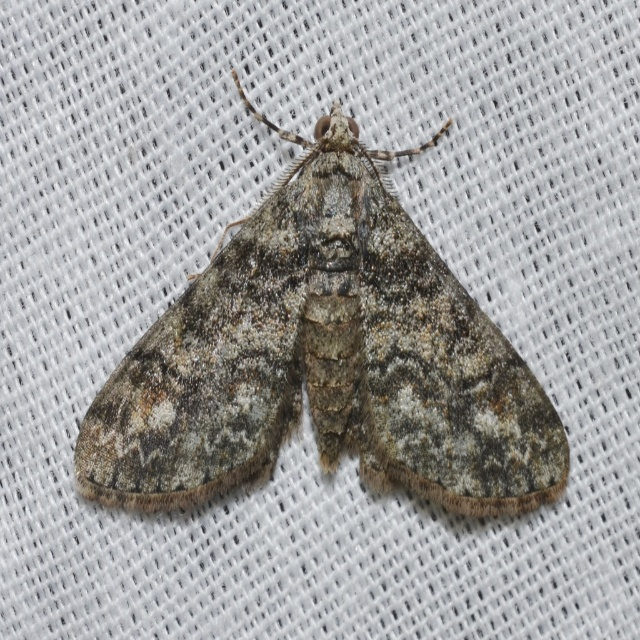Moths and butterflies: (70, 64, 570, 524)
